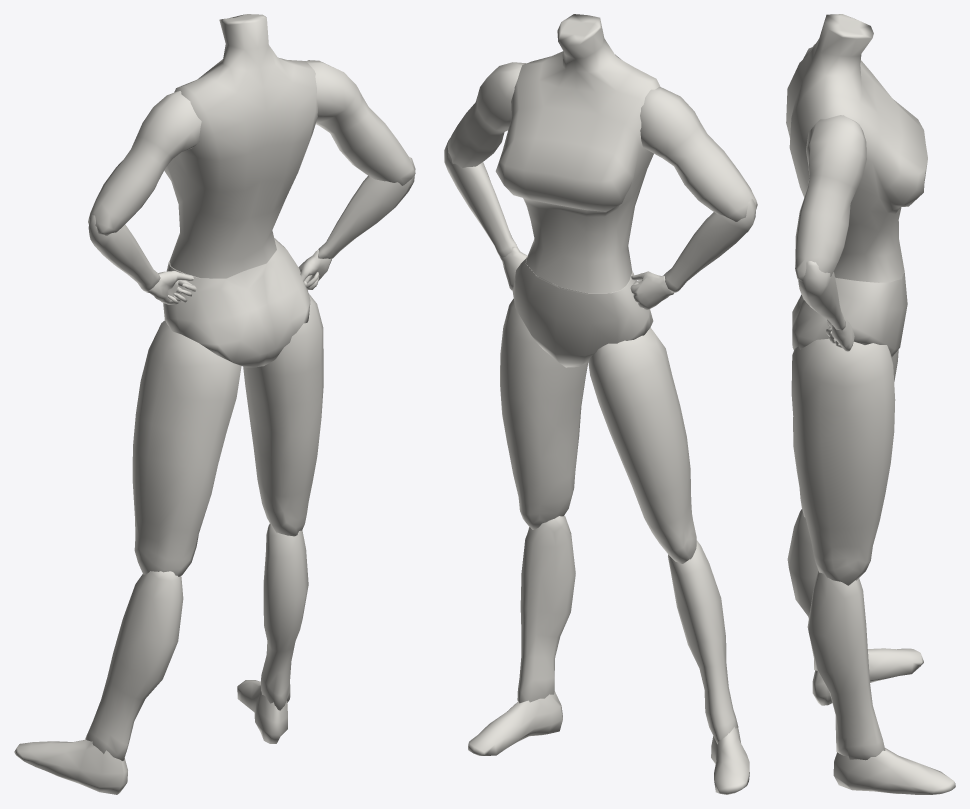
File: Female Body.glb
3 views of the same model, side by side, from view 1: azimuth 30°, elevation 25°; view 2: azimuth 150°, elevation 25°; view 3: azimuth 270°, elevation 25° (orthographic). The views are drawn at different scales.
Parts seen in each view (by area): view 1: Standard.22, Standard.17, Standard.14, Standard.31, Standard.18, Standard.21, Standard.13, Standard.15, Standard.19, Standard.12, Standard.20, Standard.16 (+1 smaller); view 2: Standard.22, Standard.17, Standard.14, Standard.31, Standard.15, Standard.21, Standard.18, Standard.13, Standard.16, Standard.20, Standard.12, Standard.19 (+1 smaller); view 3: Standard.14, Standard.22, Standard.15, Standard.13, Standard.31, Standard.16, Standard.18, Standard.19, Standard.12, Standard.27.
Boxes of the visible parts, x1,y1,x2,y2 form: Standard.22: (164,14,317,278); Standard.17: (132,320,241,576); Standard.14: (243,293,323,536); Standard.31: (163,238,310,367); Standard.18: (85,571,183,760); Standard.21: (88,91,201,235); Standard.13: (306,60,415,185); Standard.15: (261,524,308,710); Standard.19: (14,739,127,794); Standard.12: (318,157,415,258); Standard.20: (88,214,160,291); Standard.16: (237,680,287,743); Standard.22: (495,14,660,294); Standard.17: (588,327,696,563); Standard.14: (500,299,588,529); Standard.31: (512,257,653,367); Standard.15: (517,515,575,703); Standard.21: (640,87,757,221); Standard.18: (668,540,738,744); Standard.13: (447,62,526,167); Standard.16: (468,691,562,755); Standard.20: (663,199,756,292); Standard.12: (444,138,518,257); Standard.19: (711,727,749,794); Standard.14: (791,338,895,585); Standard.22: (786,14,927,282); Standard.15: (807,571,885,760); Standard.13: (795,115,866,281); Standard.31: (792,270,907,356); Standard.16: (833,748,955,794); Standard.18: (787,509,818,670); Standard.19: (812,648,923,705); Standard.12: (798,261,845,330); Standard.27: (827,316,854,351).
Size of the model in its own units: 0.0388 by 0.0781 by 0.016.
20 materials, 20 textured.
